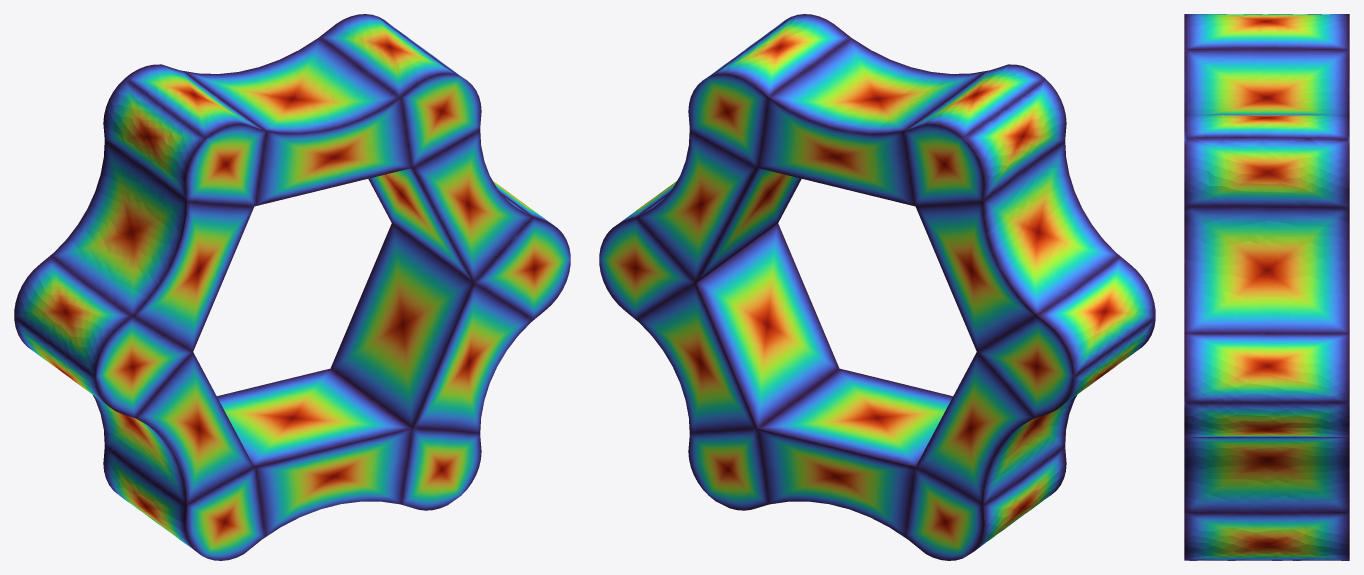
File: gen3.glb
The picture shows the model from 3 angles, left to right: view 1: azimuth 30°, elevation 25°; view 2: azimuth 150°, elevation 25°; view 3: azimuth 270°, elevation 25°; orthographic projection.
Parts seen in each view (by area): view 1: Node; view 2: Node; view 3: Node.
Boxes of the visible parts, box(x1,y1,x2,y2) form: Node: box(14, 14, 570, 560); Node: box(599, 14, 1155, 560); Node: box(1184, 14, 1349, 560).
Size of the model in its own units: 23.98 by 20.97 by 7.2.
1 material, 1 textured.
